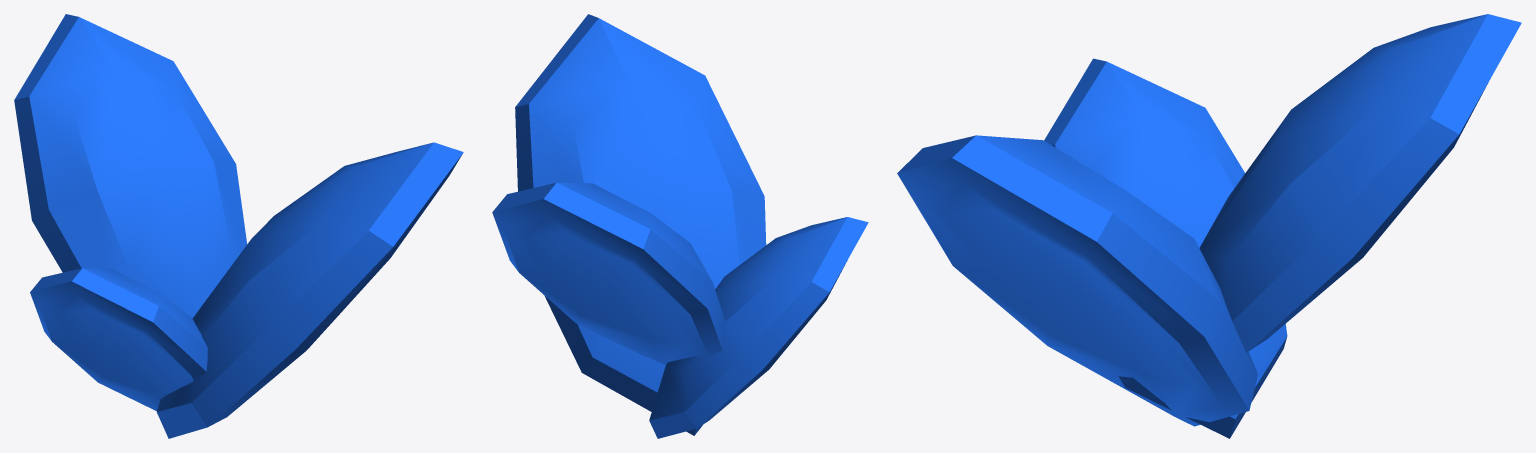
Rendered from feathers.obj.
3 renders of one model, left to right at view 1: azimuth 30°, elevation 25°; view 2: azimuth 150°, elevation 25°; view 3: azimuth 270°, elevation 25°, orthographic. The views are drawn at different scales.
Parts seen in each view (by area): view 1: feathers_Cube.107; view 2: feathers_Cube.107; view 3: feathers_Cube.107.
Part boxes in pixels (x1=…): feathers_Cube.107: x1=14, y1=14, x2=463, y2=438; feathers_Cube.107: x1=492, y1=14, x2=868, y2=438; feathers_Cube.107: x1=897, y1=14, x2=1521, y2=438.
Size of the model in its own units: 0.4339 by 0.3877 by 0.5131.
